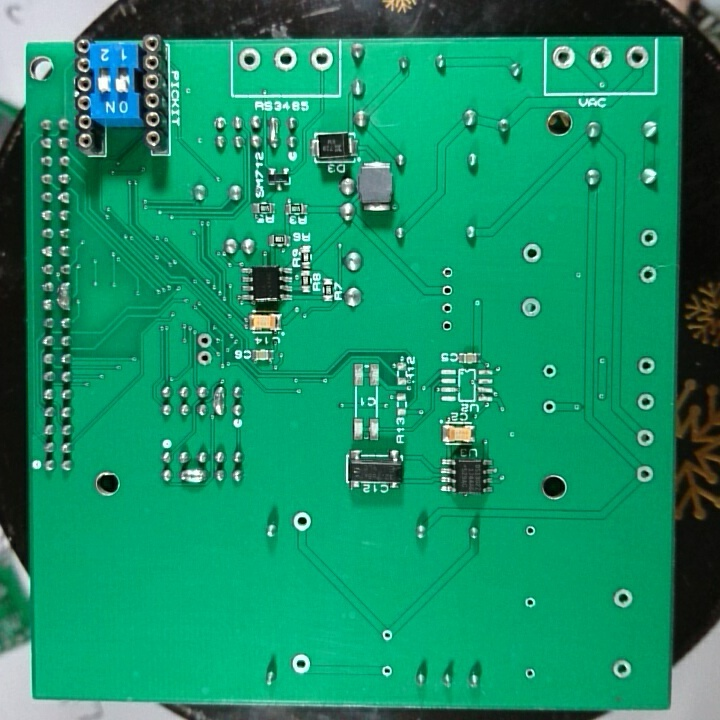F: (235, 46, 264, 75), (587, 44, 615, 74), (623, 43, 651, 72), (308, 45, 335, 75), (551, 43, 578, 72), (273, 45, 299, 75), (517, 293, 545, 320), (288, 651, 315, 676), (290, 509, 314, 535), (519, 241, 543, 266), (634, 355, 657, 380), (634, 390, 657, 415), (611, 587, 634, 612), (611, 657, 633, 682), (634, 463, 657, 486), (634, 428, 657, 450), (638, 227, 659, 249), (638, 264, 660, 285), (540, 360, 559, 382), (194, 331, 215, 349), (379, 661, 396, 682), (195, 349, 216, 366), (540, 398, 558, 417), (521, 664, 538, 683), (522, 593, 539, 612), (379, 626, 396, 644), (439, 318, 456, 335), (439, 300, 456, 317), (440, 264, 457, 281), (439, 282, 457, 298), (523, 522, 538, 540)
P: (178, 466, 207, 486), (56, 279, 73, 312), (266, 115, 282, 150), (213, 382, 228, 419)
